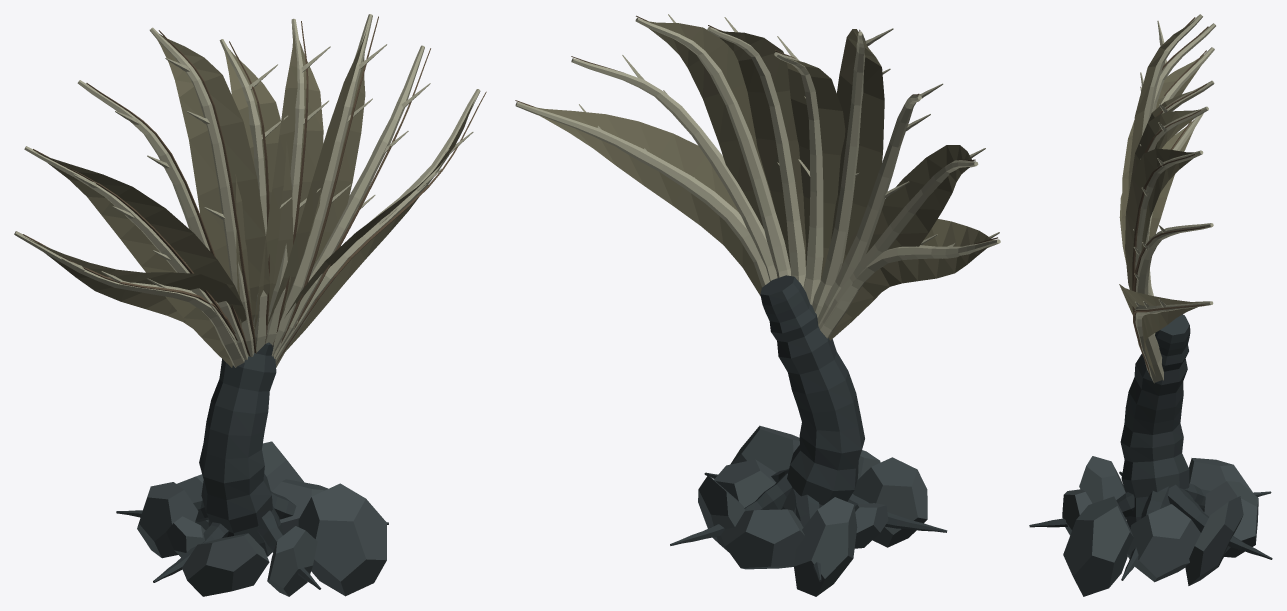
File: ash-fan.glb
3 views of the same model, side by side, from view 1: azimuth 30°, elevation 25°; view 2: azimuth 150°, elevation 25°; view 3: azimuth 270°, elevation 25° (orthographic). The views are drawn at different scales.
Visible parts, largest first — view 1: Dry ochre membranes, Pale fossil ribs, Basalt matrix, Carbonised mineral bark, Extinguished copper veins; view 2: Dry ochre membranes, Pale fossil ribs, Basalt matrix, Carbonised mineral bark; view 3: Basalt matrix, Carbonised mineral bark, Dry ochre membranes, Pale fossil ribs, Extinguished copper veins.
Part boxes in pixels (bbox=[...]): Dry ochre membranes: bbox=[25, 28, 474, 367]; Pale fossil ribs: bbox=[14, 14, 480, 367]; Basalt matrix: bbox=[137, 441, 386, 596]; Carbonised mineral bark: bbox=[116, 342, 388, 589]; Extinguished copper veins: bbox=[23, 16, 486, 363]; Dry ochre membranes: bbox=[533, 21, 993, 340]; Pale fossil ribs: bbox=[515, 14, 1000, 338]; Basalt matrix: bbox=[698, 425, 927, 596]; Carbonised mineral bark: bbox=[670, 275, 947, 581]; Basalt matrix: bbox=[1062, 456, 1258, 596]; Carbonised mineral bark: bbox=[1029, 314, 1272, 580]; Dry ochre membranes: bbox=[1119, 20, 1204, 375]; Pale fossil ribs: bbox=[1133, 14, 1215, 383]; Extinguished copper veins: bbox=[1132, 17, 1208, 375].
Bounding box in the file's own units: 2.75 × 3.06 × 1.31.
